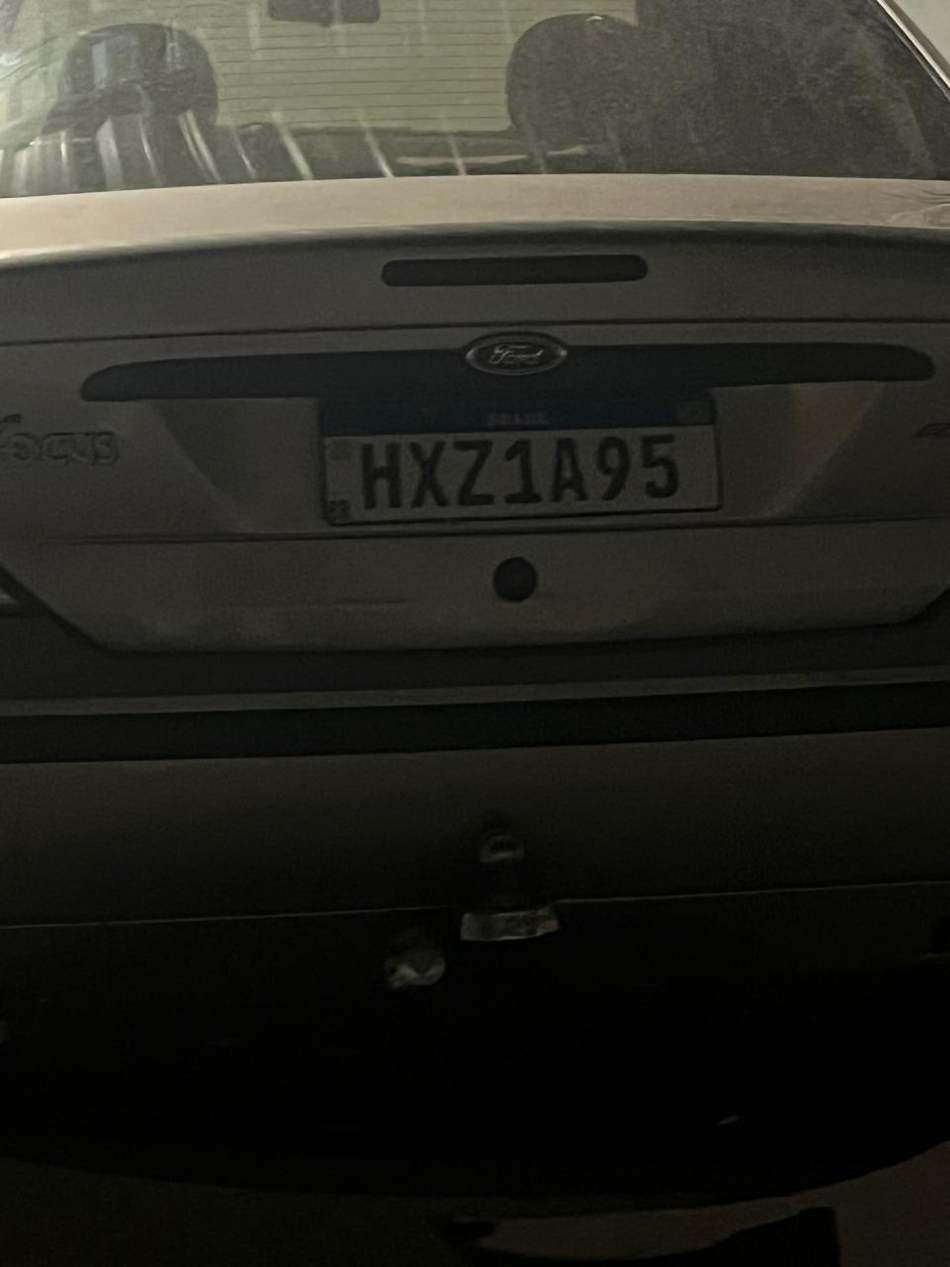1: (503, 438, 544, 509)
5: (641, 434, 686, 508)
9: (595, 436, 638, 507)
A: (547, 436, 595, 508)
H: (356, 441, 407, 512)
X: (409, 437, 453, 512)
Z: (452, 436, 500, 508)
